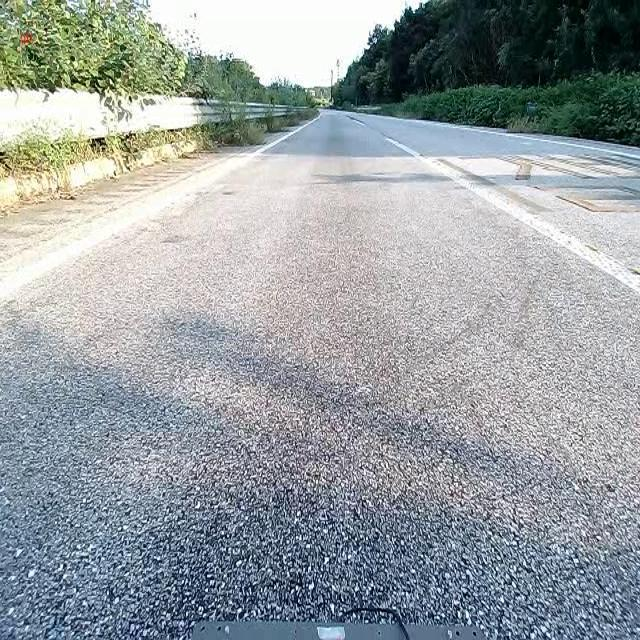Lane: (0, 107, 327, 307), (0, 111, 322, 306), (386, 134, 640, 293), (389, 140, 639, 295)
